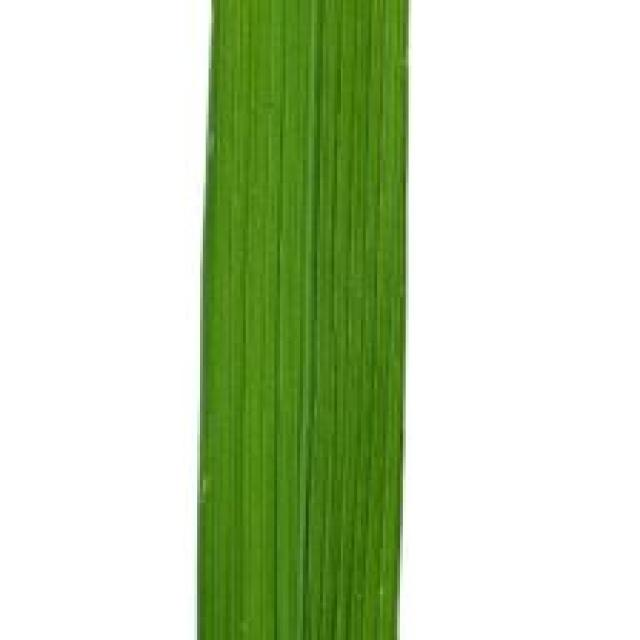Rice___Healthy_Rice_Plant: (196, 0, 409, 637)
